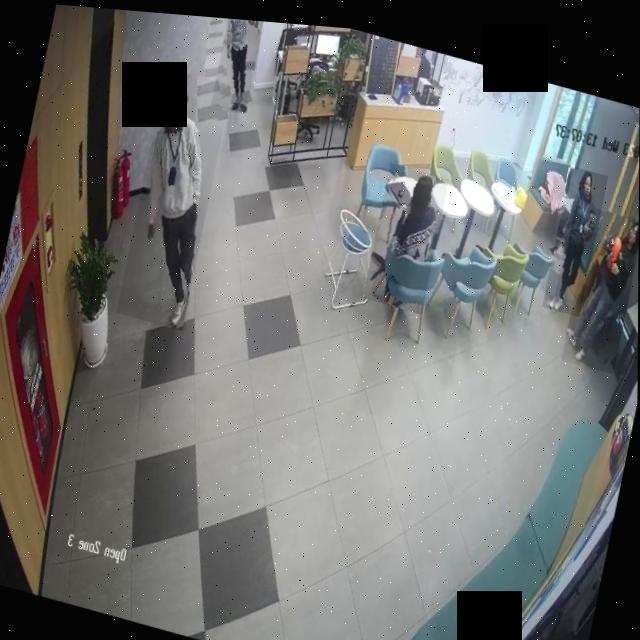person: (117, 62, 232, 331), (363, 154, 450, 309), (561, 195, 639, 365), (542, 154, 608, 309), (210, 14, 267, 112)
